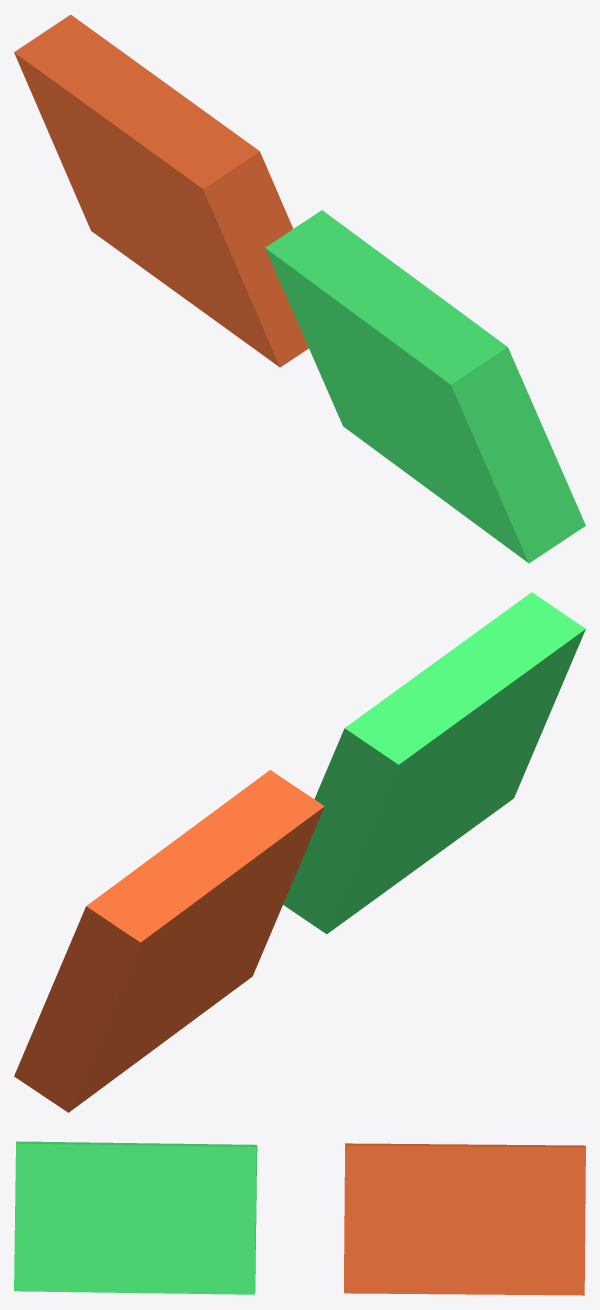
File: Combination key pad indicator lights.fbx
3 views of the same model, one above another, from view 1: azimuth 30°, elevation 25°; view 2: azimuth 150°, elevation 25°; view 3: azimuth 270°, elevation 25° (orthographic). The views are drawn at different scales.
Visible parts, largest first — view 1: 315fab37-3d73-490e-a984-410afee9d7b2; view 2: 315fab37-3d73-490e-a984-410afee9d7b2; view 3: 315fab37-3d73-490e-a984-410afee9d7b2.
Part boxes in pixels (x1,y1,x2,y2): 315fab37-3d73-490e-a984-410afee9d7b2: (14,14,585,563); 315fab37-3d73-490e-a984-410afee9d7b2: (14,592,585,1112); 315fab37-3d73-490e-a984-410afee9d7b2: (14,1141,585,1295).
Size of the model in its own units: 5353 by 7934 by 28747.
